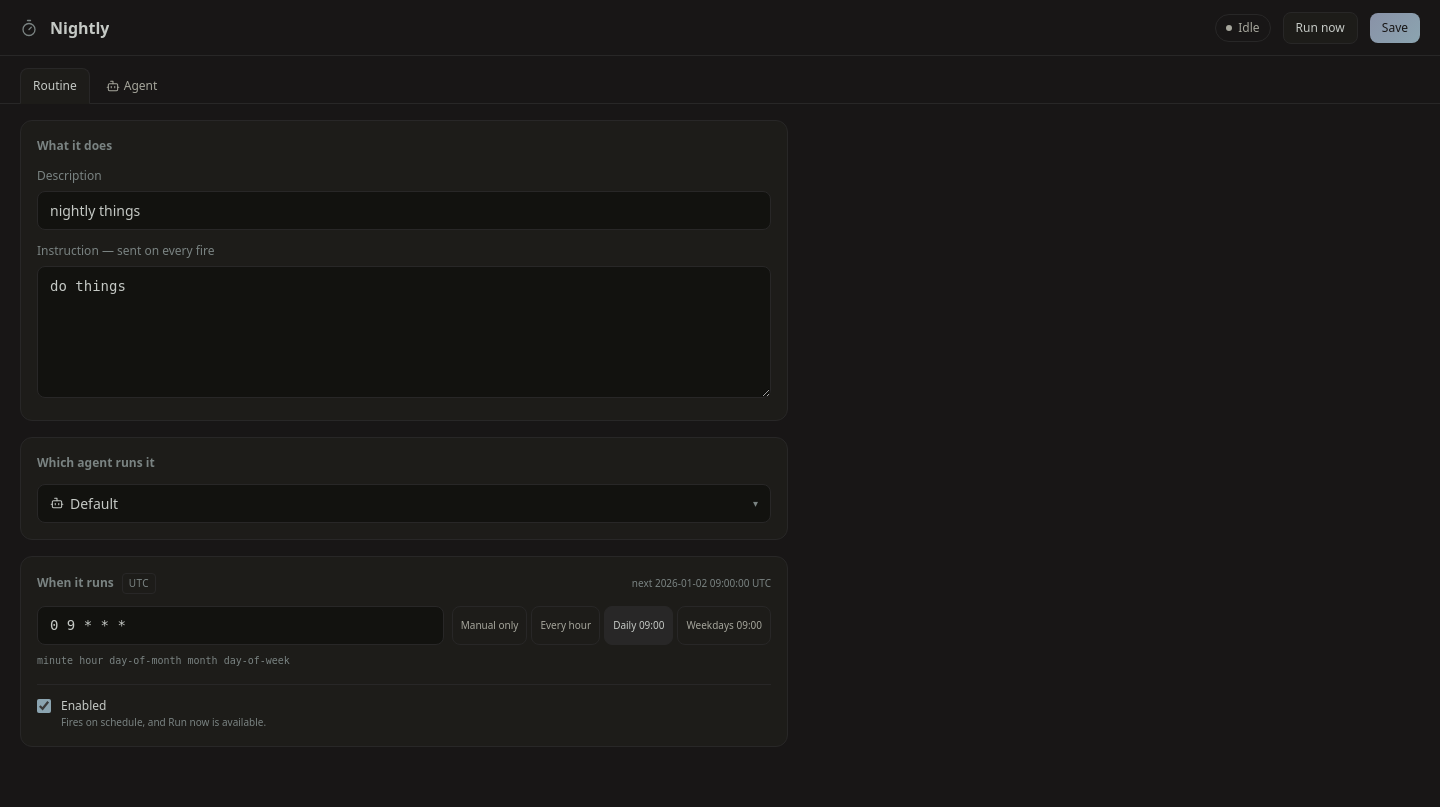
Test: RoutineView › persists the picked agent model on the routine as soon as it is picked
Click the button with test id "routine-agent-model-picker" at (94, 503), box x1=37 y1=484 x2=771 y2=523
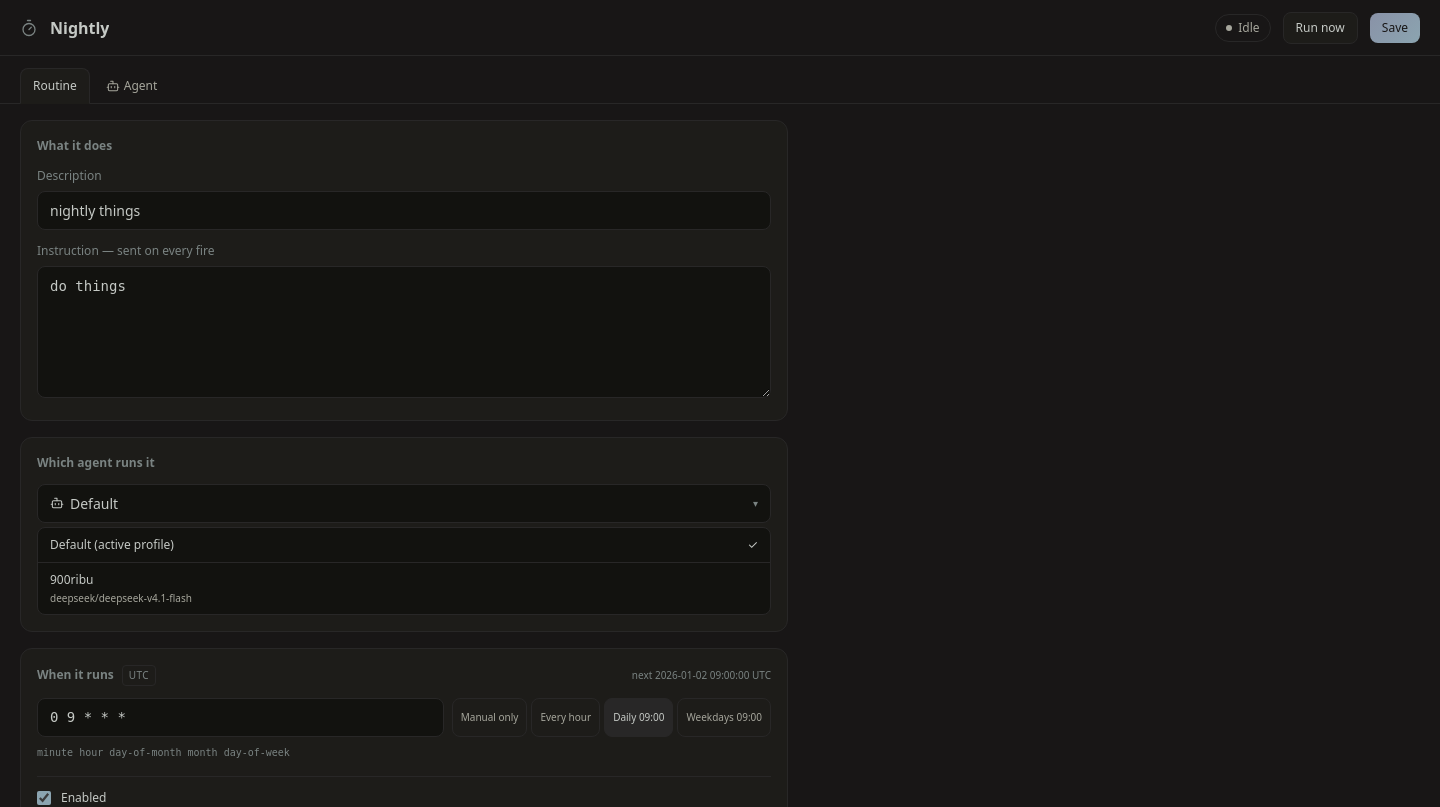
Click the button with test id "routine-agent-model-option" that starts with "900ribu" at (72, 579), box x1=38 y1=562 x2=770 y2=614
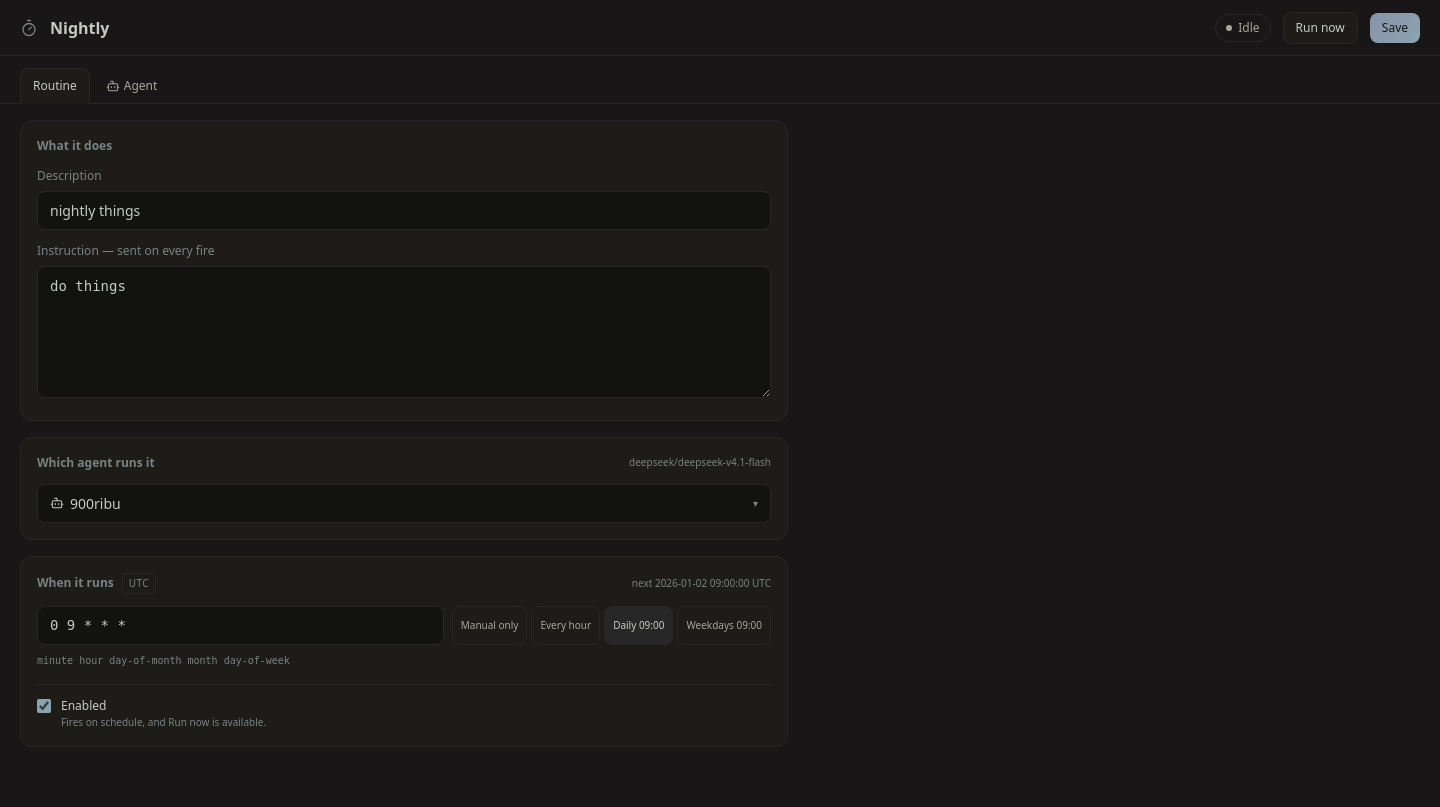
Expected: the button with test id "routine-agent-model-picker" shows "900ribu", x1=37 y1=484 x2=771 y2=523
